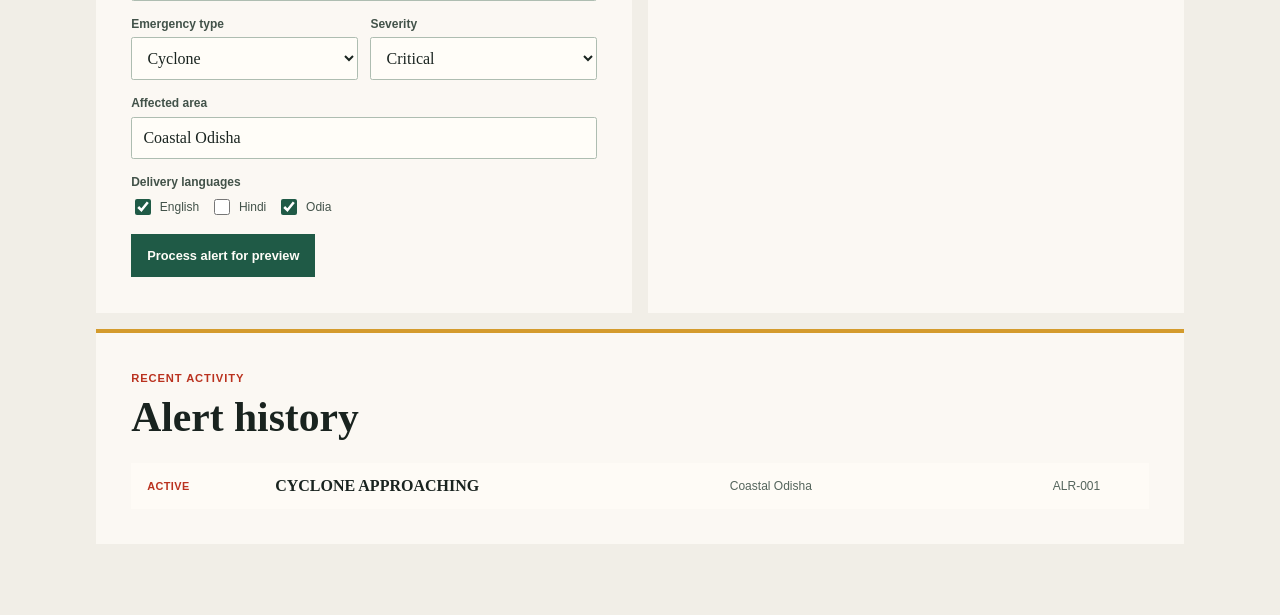
Test case: AuthorityPage › requires confirmation before sending and shows success after sending
The width and height of the screenshot is (1280, 615).
(page scrolled)
Click the button "Process alert for preview" at (223, 256), box [131, 234, 315, 277]
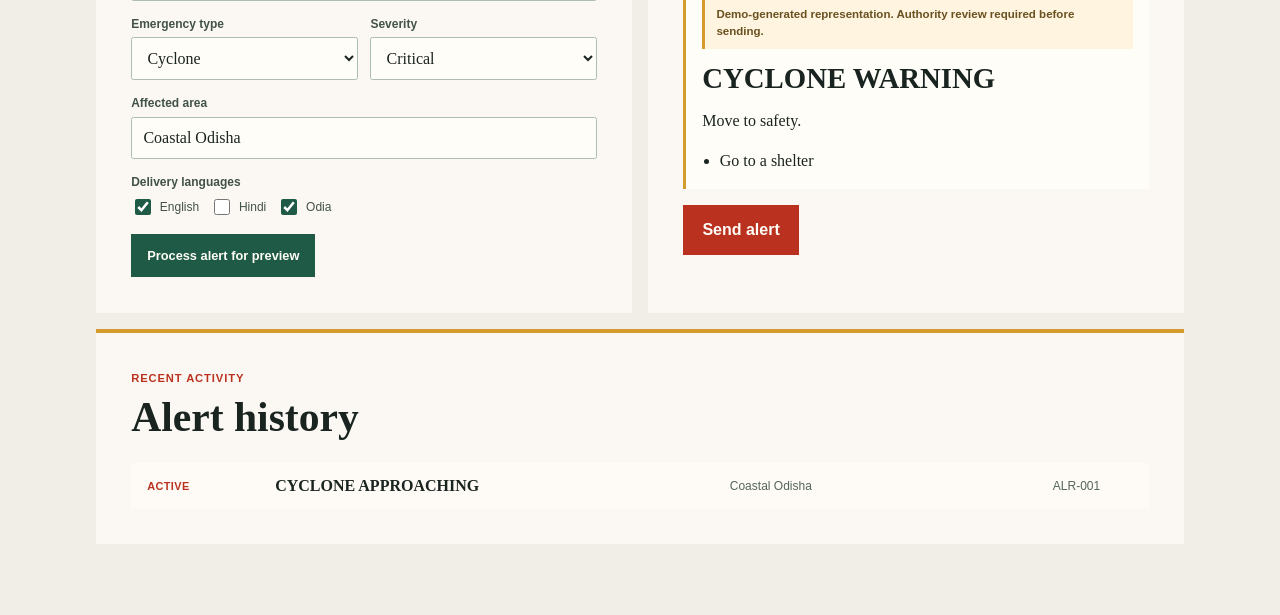
Click the button "Send alert" at (741, 230), box [683, 204, 799, 254]
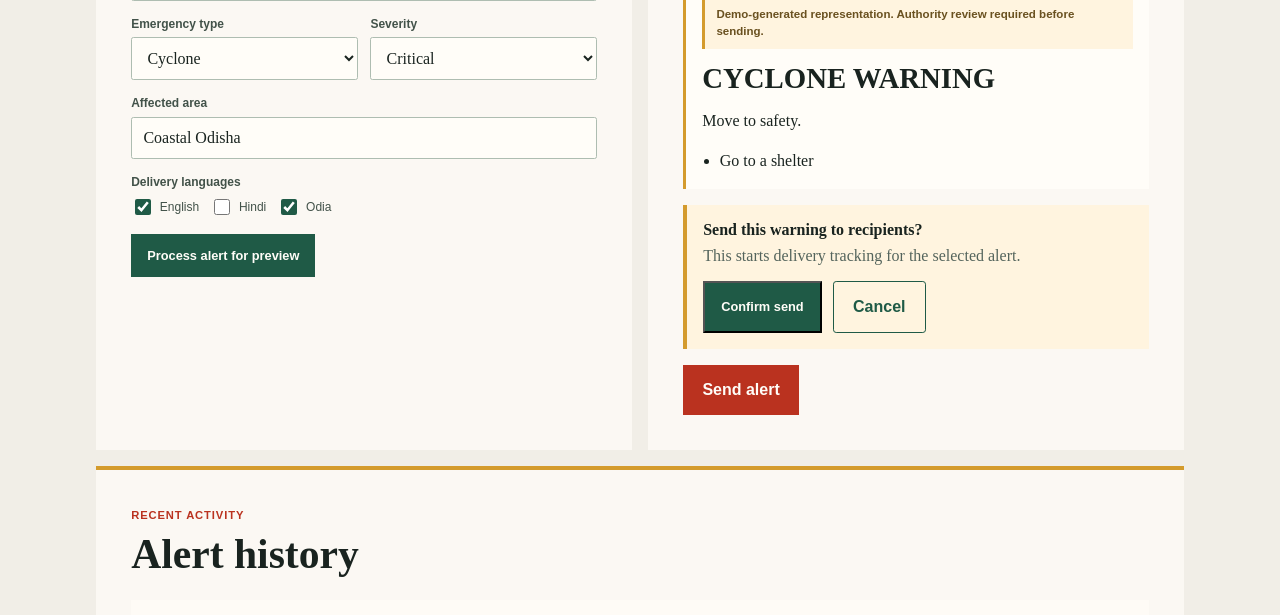
Expected: the text "Send this warning to recipients?" is shown, [703, 220, 922, 238]
Click the button "Confirm send" at (762, 306), box [703, 280, 822, 332]
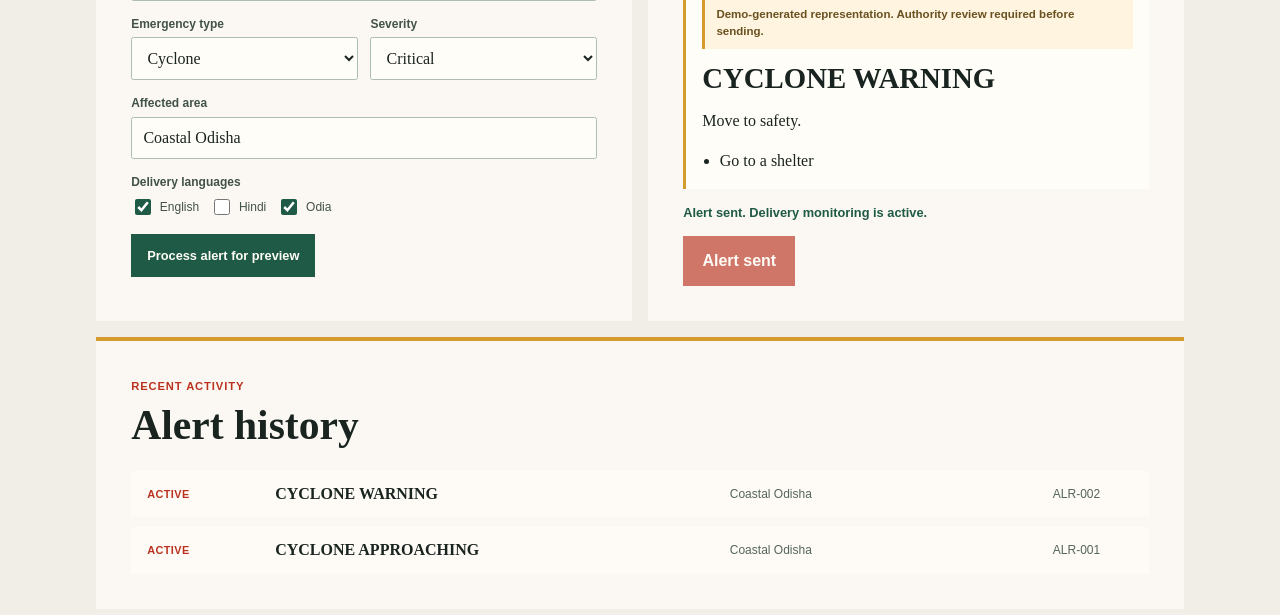
Expected: the text "Alert sent. Delivery monitoring is active." is shown, [683, 204, 927, 220]
Expected: the button "Alert sent" is disabled, [683, 236, 795, 286]
